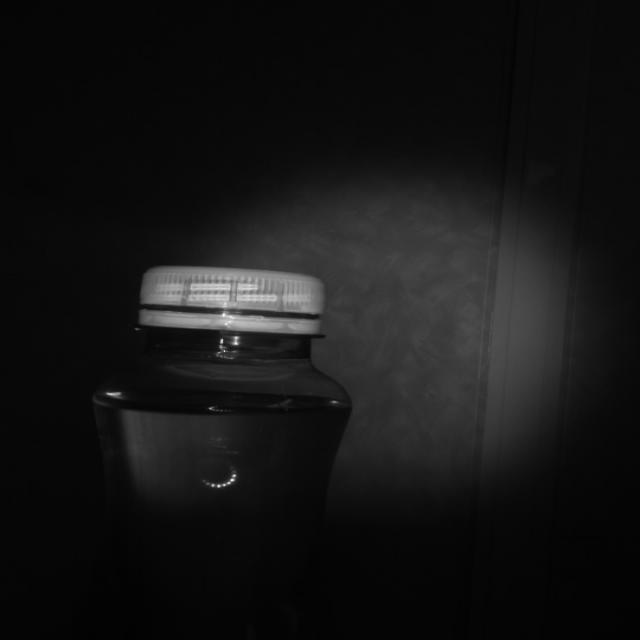Not Good: (138, 264, 323, 336)
